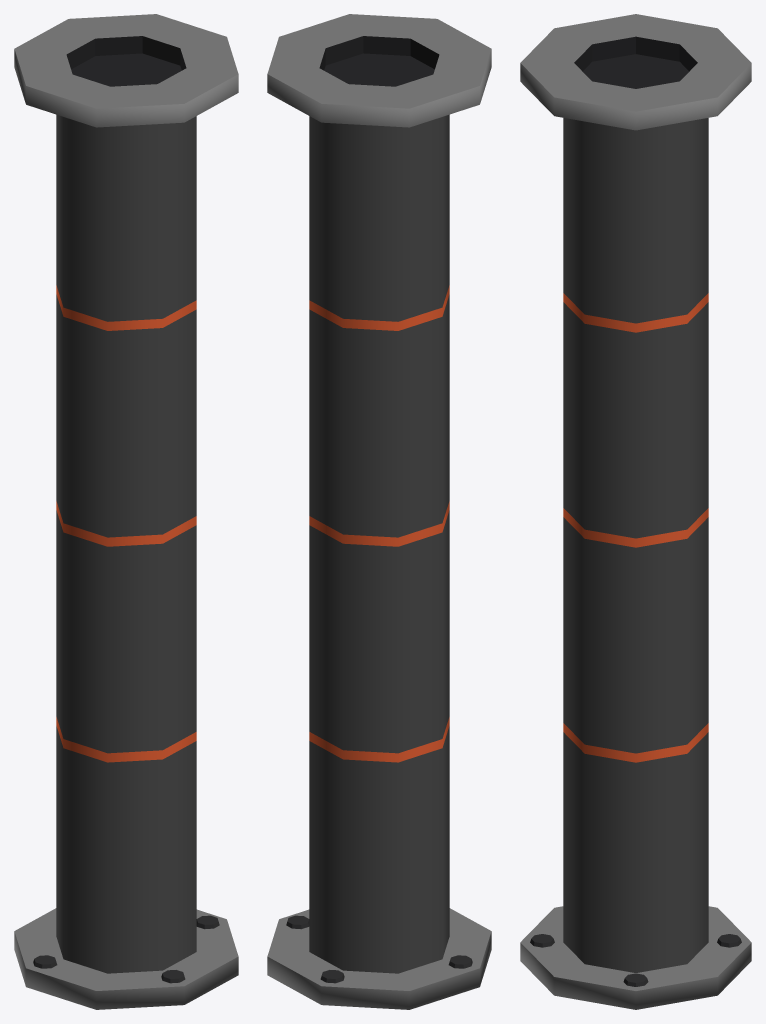
The model's file is Pipe_Straight_1M_01.glb.
3 views of the same model, side by side, from view 1: azimuth 30°, elevation 25°; view 2: azimuth 150°, elevation 25°; view 3: azimuth 270°, elevation 25° (orthographic).
Parts seen in each view (by area): view 1: Pipe_Straight_1M_01; view 2: Pipe_Straight_1M_01; view 3: Pipe_Straight_1M_01.
Part boxes in pixels (x1=…): Pipe_Straight_1M_01: x1=14, y1=14, x2=238, y2=1009; Pipe_Straight_1M_01: x1=267, y1=14, x2=491, y2=1009; Pipe_Straight_1M_01: x1=520, y1=14, x2=751, y2=1009.
Size of what is drawn, in the model's own units: 0.35 by 1.5 by 0.35.
Materials: 1 (1 with a texture image).
